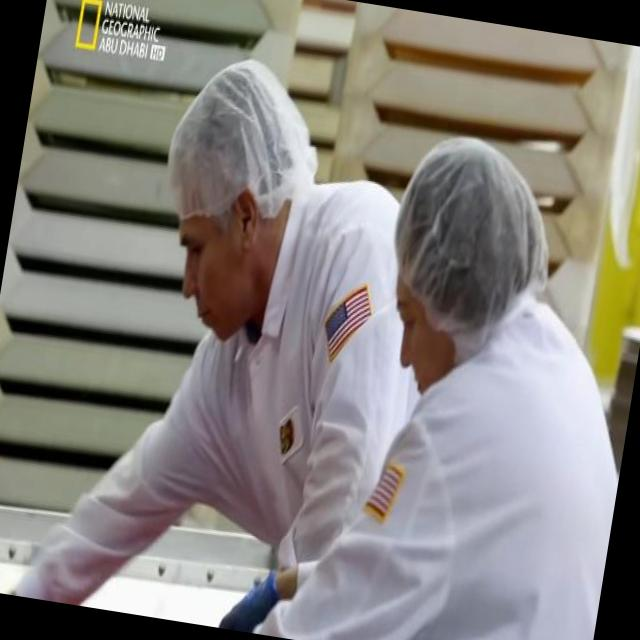hairnet: (384, 130, 570, 326), (163, 54, 328, 220)
